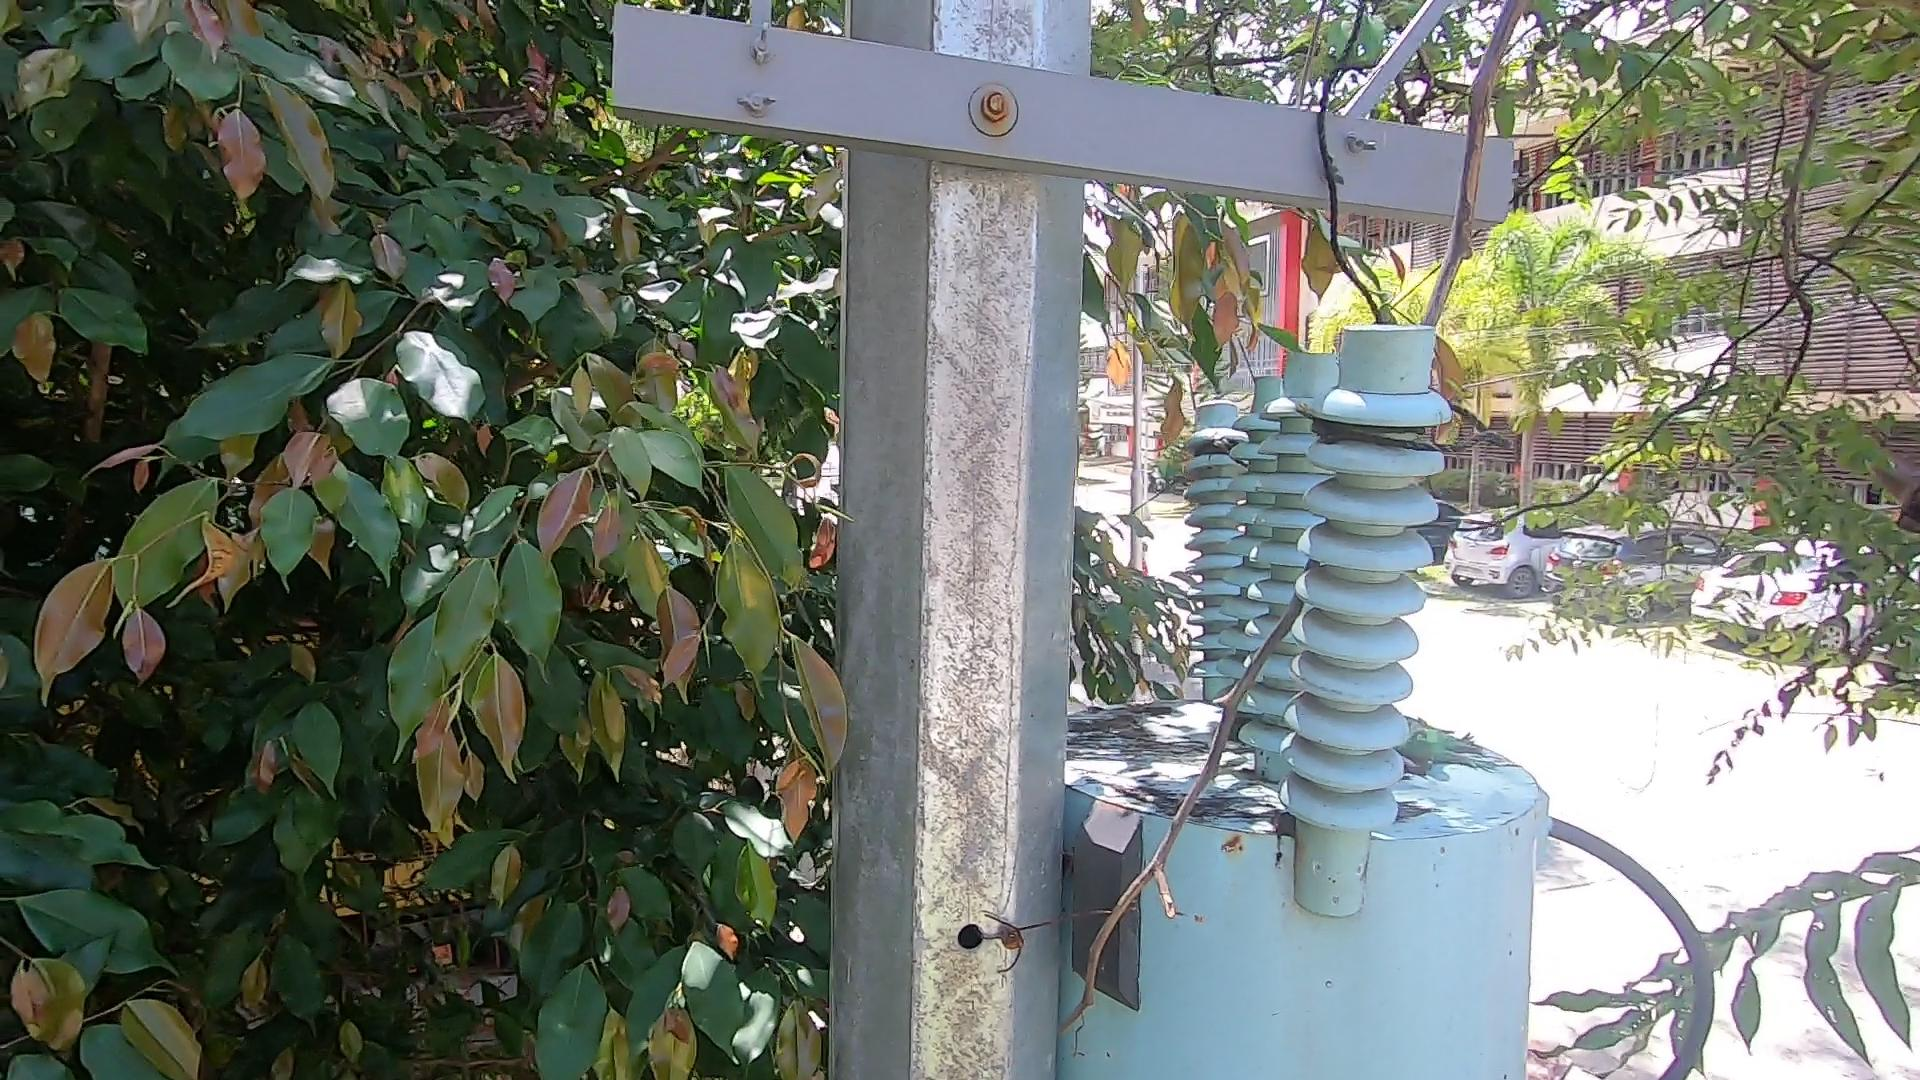branch with leaves: (1095, 237, 1361, 415)
leaf: (1404, 737, 1480, 778), (1095, 705, 1154, 752), (1255, 800, 1299, 853)
tree branch: (992, 3, 1600, 1021)
